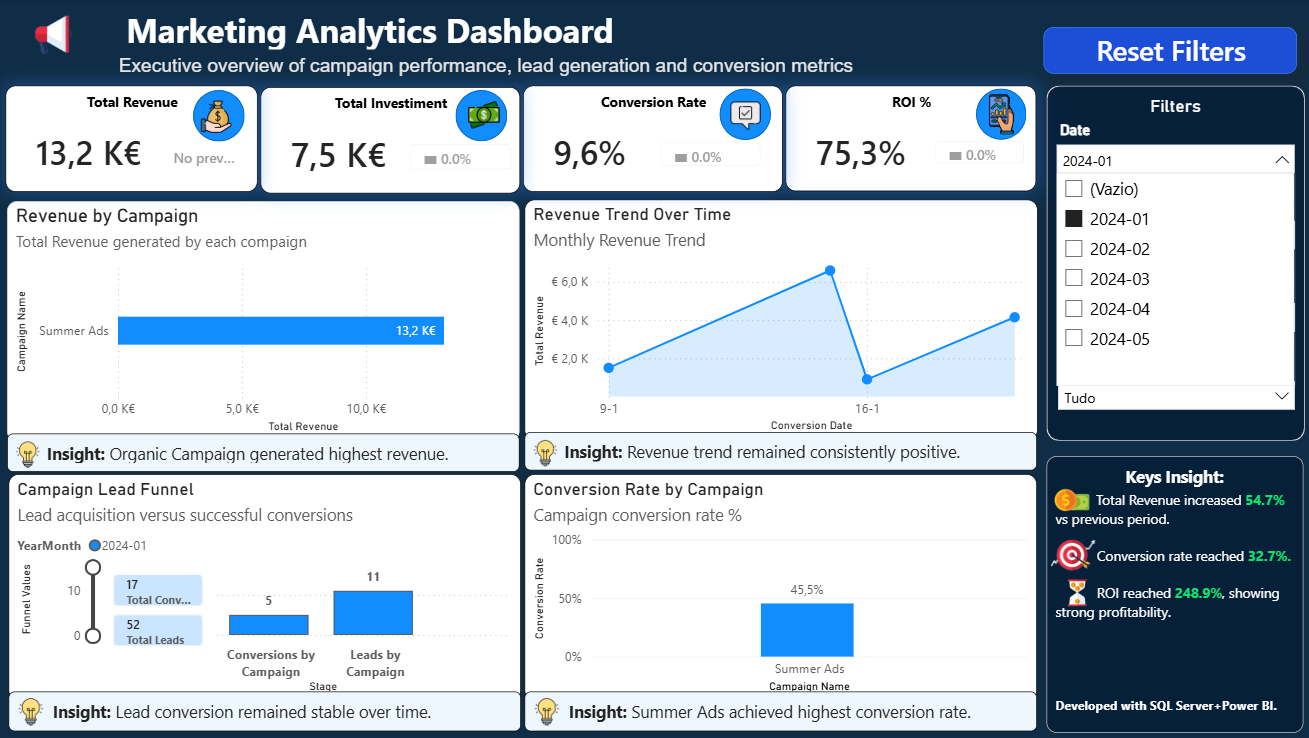

Layout of this report page (visuals, bound fields, positions):
{"tool":"powerbi","page":{"name":"Marketing_Analytics_Dashboard","canvas":[1280,720],"ordinal":0},"visuals":[{"type":"group","id":"g1","title":"Grupo 29","box":[16.2,4.9,994.2,92.3],"z":0},{"type":"group","id":"g2","title":"Grupo 5","box":[514.8,85.2,252,103],"z":0,"group":"g24"},{"type":"cardVisual","fields":{"Data":["KPIs.Conversion Rate"]},"box":[514.8,85.2,252,103],"z":0,"group":"g2"},{"type":"group","id":"g3","title":"Grupo 2","box":[13.5,85.5,252.6,103.6],"z":0,"group":"g26"},{"type":"group","id":"g4","title":"Grupo 3","box":[13.5,85.5,252.6,103.6],"z":0,"group":"g3"},{"type":"group","id":"g5","title":"Grupo 7","box":[13.5,85.5,252.6,103.6],"z":0,"group":"g4"},{"type":"cardVisual","fields":{"Data":["KPIs.Total Revenue"]},"box":[13.5,85.5,244.9,103.6],"z":0,"group":"g5"},{"type":"shape","box":[1022.7,85.8,250.9,344.9],"z":0,"group":"g19"},{"type":"group","id":"g6","title":"Grupo 4","box":[770.6,85.9,248.8,102.5],"z":0,"group":"g22"},{"type":"cardVisual","fields":{"Data":["KPIs.ROI %"]},"box":[770.6,85.9,243.3,102.5],"z":0,"group":"g6"},{"type":"group","id":"g7","title":"Grupo 6","box":[261.2,87.9,260.7,103],"z":0,"group":"g25"},{"type":"cardVisual","fields":{"Data":["KPIs.Total Investiment"]},"box":[261.2,87.9,252,103],"z":0,"group":"g7"},{"type":"group","id":"g8","title":"Grupo 12","box":[704.9,87.9,50,50],"z":0,"group":"g14"},{"type":"shape","box":[704.9,87.9,50,50],"z":0,"group":"g8"},{"type":"group","id":"g9","title":"Grupo 14","box":[956.1,89.5,48.9,49.8],"z":0,"group":"g15"},{"type":"shape","box":[956.1,89.5,48.9,49.8],"z":0,"group":"g9"},{"type":"shape","box":[196.1,90.3,50.2,50],"z":0,"group":"g16"},{"type":"group","id":"g10","title":"Grupo 10","box":[450.5,90.7,51.5,50],"z":0,"group":"g17"},{"type":"shape","box":[450.5,90.7,50.3,49.8],"z":0,"group":"g10"},{"type":"textbox","box":[516.7,422.3,497.1,37.2],"z":0,"group":"g21"},{"type":"textbox","box":[14.6,423.2,497.1,37.2],"z":0,"group":"g28"},{"type":"group","id":"g11","title":"Grupo 21","box":[1022.7,445.3,249.4,268.8],"z":0,"group":"g23"},{"type":"group","id":"g12","title":"Grupo 22","box":[1022.7,445.3,249.4,268.8],"z":0,"group":"g11"},{"type":"group","id":"g13","title":"Grupo 23","box":[1022.7,445.3,249.4,268.8],"z":0,"group":"g12"},{"type":"textbox","box":[1022.7,445.3,249.4,268.8],"z":0,"group":"g13"},{"type":"image","box":[1024.4,462.4,52.6,47.9],"z":0,"group":"g18"},{"type":"textbox","box":[13.3,673.3,500,38.9],"z":0,"group":"g20"},{"type":"textbox","box":[516.5,673.6,497.1,38.9],"z":0,"group":"g29"},{"type":"textbox","box":[125.1,4.9,885.3,53.7],"z":500,"group":"g1"},{"type":"textbox","box":[118,51.2,891.1,46],"z":1000,"group":"g1"},{"type":"group","id":"g14","title":"Grupo 11","box":[704.9,87.9,50.2,50.2],"z":1000,"group":"g24"},{"type":"group","id":"g15","title":"Grupo 13","box":[956.1,89.5,48.9,49.8],"z":1000,"group":"g22"},{"type":"group","id":"g16","title":"Grupo 8","box":[196.1,90.3,50.2,50],"z":1000,"group":"g26"},{"type":"group","id":"g17","title":"Grupo 9","box":[450.5,90.7,50,50],"z":1000,"group":"g25"},{"type":"image","box":[961.1,93.3,41.1,40.8],"z":1000,"group":"g9"},{"type":"slicer","title":"Filters","fields":{"Values":["DimDate.YearMonth"]},"box":[1022.8,96.6,250.9,101.8],"z":1000,"group":"g19"},{"type":"image","box":[452.8,99.8,48.9,30.6],"z":1000,"group":"g10"},{"type":"image","box":[711.9,100.2,35.7,29.2],"z":1000,"group":"g8"},{"type":"image","box":[203.5,101.1,30.8,31.2],"z":1000,"group":"g16"},{"type":"cardVisual","fields":{"Data":["KPIs.Conversion Trend Label"]},"box":[631.5,122.7,131.9,57.7],"z":1000,"group":"g2"},{"type":"cardVisual","fields":{"Data":["KPIs.ROI Trend Label"]},"box":[898.9,123,120.4,56.4],"z":1000,"group":"g6"},{"type":"cardVisual","fields":{"Data":["KPIs.Investment Trend Label"]},"box":[389,125.1,132.9,59.9],"z":1000,"group":"g7"},{"type":"cardVisual","fields":{"Data":["KPIs.Revenue Trend Label"]},"box":[147.9,127.6,118.2,53.4],"z":1000,"group":"g5"},{"type":"clusteredBarChart","title":"Revenue by Campaign","fields":{"Category":["Campanhas.Campaign Name"],"Y":["KPIs.Total Revenue"]},"box":[14.6,197.5,497.1,233.2],"z":1000},{"type":"image","box":[518.3,428.5,37,29.5],"z":1000,"group":"g21"},{"type":"image","box":[16.2,429.4,37,29.5],"z":1000,"group":"g28"},{"type":"image","box":[1024.4,515.5,50.9,49.6],"z":1000,"group":"g18"},{"type":"image","box":[16.5,678.2,37.3,30.8],"z":1000,"group":"g20"},{"type":"image","box":[519.7,678.5,37.1,30.8],"z":1000,"group":"g29"},{"type":"group","id":"g18","title":"Grupo 24","box":[1024.4,462.4,52.6,102.7],"z":1500,"group":"g13"},{"type":"image","box":[16.2,7.9,84,60.8],"z":2000,"group":"g1"},{"type":"lineChart","title":"Revenue Trend Over Time","fields":{"Category":["Conversoes.Conversion Date.Variação.Hierarquia de Datas.Ano"],"Y":["KPIs.Total Revenue"]},"box":[515.6,196.7,498.9,234.4],"z":2000},{"type":"slicer","fields":{"Values":["Campanhas.Channel"]},"box":[1024.3,269.6,249.3,60.8],"z":2000,"group":"g19"},{"type":"slicer","fields":{"Values":["Leads.City"]},"box":[1024.3,345.6,249.3,60.8],"z":3000,"group":"g19"},{"type":"clusteredColumnChart","title":"Campaign Lead Funnel","fields":{"Category":["Funnel Stage.Stage"],"Y":["KPIs.Funnel Values"],"Series":["DimDate.YearMonth"]},"box":[13.3,463.3,500,220],"z":3000},{"type":"slicer","fields":{"Values":["Campanhas.Campaign Name"]},"box":[1024.3,189.1,249.3,76],"z":4000,"group":"g19"},{"type":"clusteredColumnChart","title":"Conversion Rate by Campaign","fields":{"Category":["Campanhas.Campaign Name"],"Y":["KPIs.Conversion Rate"]},"box":[516.5,463.1,497.1,220.2],"z":4000},{"type":"group","id":"g19","title":"Grupo 1","box":[1022.7,85.8,251,344.9],"z":5000},{"type":"actionButton","title":"Reset Filters","box":[1020.1,29.1,246.1,45.3],"z":6000},{"type":"group","id":"g20","title":"Grupo 17","box":[13.3,673.3,500,38.9],"z":8000},{"type":"group","id":"g21","title":"Grupo 18","box":[516.7,422.3,497.1,37.2],"z":9000},{"type":"group","id":"g22","title":"Grupo 25","box":[770.6,85.9,248.8,102.5],"z":10000},{"type":"group","id":"g23","title":"Grupo 20","box":[1022.7,445.3,249.4,268.8],"z":10000,"group":"g27"},{"type":"group","id":"g24","title":"Grupo 26","box":[514.8,85.2,252,103],"z":11000},{"type":"group","id":"g25","title":"Grupo 27","box":[261.2,87.9,260.7,103],"z":12000},{"type":"group","id":"g26","title":"Grupo 28","box":[13.5,85.5,252.6,103.6],"z":13000},{"type":"group","id":"g27","title":"Grupo 30","box":[1022.7,445.3,249.4,268.8],"z":14000},{"type":"cardVisual","fields":{"Data":["KPIs.Total Conversions","KPIs.Total Leads"]},"box":[100.4,542.4,121.4,105.2],"z":15000},{"type":"group","id":"g28","title":"Grupo 18","box":[14.6,423.2,497.1,37.2],"z":16000},{"type":"image","box":[1030.8,557,42.1,42.1],"z":16000,"group":"g27"},{"type":"group","id":"g29","title":"Grupo 17","box":[516.5,673.6,497.1,38.9],"z":17000}]}

Visuals, with their boxes in screenshot pixels (x1, y1, x2, y2), scaled from the page's 1280x720 canvas onto the 1309x738 screenshot:
"Grupo 29" group: x1=17, y1=5, x2=1033, y2=100
"Grupo 5" group: x1=526, y1=87, x2=784, y2=193
cardVisual - KPIs.Conversion Rate: x1=526, y1=87, x2=784, y2=193
"Grupo 2" group: x1=14, y1=88, x2=272, y2=194
"Grupo 3" group: x1=14, y1=88, x2=272, y2=194
"Grupo 7" group: x1=14, y1=88, x2=272, y2=194
cardVisual - KPIs.Total Revenue: x1=14, y1=88, x2=264, y2=194
shape: x1=1046, y1=88, x2=1302, y2=441
"Grupo 4" group: x1=788, y1=88, x2=1042, y2=193
cardVisual - KPIs.ROI %: x1=788, y1=88, x2=1037, y2=193
"Grupo 6" group: x1=267, y1=90, x2=534, y2=196
cardVisual - KPIs.Total Investiment: x1=267, y1=90, x2=525, y2=196
"Grupo 12" group: x1=721, y1=90, x2=772, y2=141
shape: x1=721, y1=90, x2=772, y2=141
"Grupo 14" group: x1=978, y1=92, x2=1028, y2=143
shape: x1=978, y1=92, x2=1028, y2=143
shape: x1=201, y1=93, x2=252, y2=144
"Grupo 10" group: x1=461, y1=93, x2=513, y2=144
shape: x1=461, y1=93, x2=512, y2=144
textbox: x1=528, y1=433, x2=1037, y2=471
textbox: x1=15, y1=434, x2=523, y2=472
"Grupo 21" group: x1=1046, y1=456, x2=1301, y2=732
"Grupo 22" group: x1=1046, y1=456, x2=1301, y2=732
"Grupo 23" group: x1=1046, y1=456, x2=1301, y2=732
textbox: x1=1046, y1=456, x2=1301, y2=732
image: x1=1048, y1=474, x2=1101, y2=523
textbox: x1=14, y1=690, x2=525, y2=730
textbox: x1=528, y1=690, x2=1037, y2=730
textbox: x1=128, y1=5, x2=1033, y2=60
textbox: x1=121, y1=52, x2=1032, y2=100
"Grupo 11" group: x1=721, y1=90, x2=772, y2=142
"Grupo 13" group: x1=978, y1=92, x2=1028, y2=143
"Grupo 8" group: x1=201, y1=93, x2=252, y2=144
"Grupo 9" group: x1=461, y1=93, x2=512, y2=144
image: x1=983, y1=96, x2=1025, y2=137
"Filters" slicer: x1=1046, y1=99, x2=1303, y2=203
image: x1=463, y1=102, x2=513, y2=134
image: x1=728, y1=103, x2=765, y2=133
image: x1=208, y1=104, x2=240, y2=136
cardVisual - KPIs.Conversion Trend Label: x1=646, y1=126, x2=781, y2=185
cardVisual - KPIs.ROI Trend Label: x1=919, y1=126, x2=1042, y2=184
cardVisual - KPIs.Investment Trend Label: x1=398, y1=128, x2=534, y2=190
cardVisual - KPIs.Revenue Trend Label: x1=151, y1=131, x2=272, y2=186
"Revenue by Campaign" clusteredBarChart: x1=15, y1=202, x2=523, y2=441
image: x1=530, y1=439, x2=568, y2=469
image: x1=17, y1=440, x2=54, y2=470
image: x1=1048, y1=528, x2=1100, y2=579
image: x1=17, y1=695, x2=55, y2=727
image: x1=531, y1=695, x2=569, y2=727
"Grupo 24" group: x1=1048, y1=474, x2=1101, y2=579
image: x1=17, y1=8, x2=102, y2=70
"Revenue Trend Over Time" lineChart: x1=527, y1=202, x2=1037, y2=442
slicer - Campanhas.Channel: x1=1048, y1=276, x2=1302, y2=339
slicer - Leads.City: x1=1048, y1=354, x2=1302, y2=417
"Campaign Lead Funnel" clusteredColumnChart: x1=14, y1=475, x2=525, y2=700
slicer - Campanhas.Campaign Name: x1=1048, y1=194, x2=1302, y2=272
"Conversion Rate by Campaign" clusteredColumnChart: x1=528, y1=475, x2=1037, y2=700
"Grupo 1" group: x1=1046, y1=88, x2=1303, y2=441
"Reset Filters" actionButton: x1=1043, y1=30, x2=1295, y2=76
"Grupo 17" group: x1=14, y1=690, x2=525, y2=730
"Grupo 18" group: x1=528, y1=433, x2=1037, y2=471
"Grupo 25" group: x1=788, y1=88, x2=1042, y2=193
"Grupo 20" group: x1=1046, y1=456, x2=1301, y2=732
"Grupo 26" group: x1=526, y1=87, x2=784, y2=193
"Grupo 27" group: x1=267, y1=90, x2=534, y2=196
"Grupo 28" group: x1=14, y1=88, x2=272, y2=194
"Grupo 30" group: x1=1046, y1=456, x2=1301, y2=732
cardVisual - KPIs.Total Conversions x KPIs.Total Leads: x1=103, y1=556, x2=227, y2=664
"Grupo 18" group: x1=15, y1=434, x2=523, y2=472
image: x1=1054, y1=571, x2=1097, y2=614
"Grupo 17" group: x1=528, y1=690, x2=1037, y2=730
